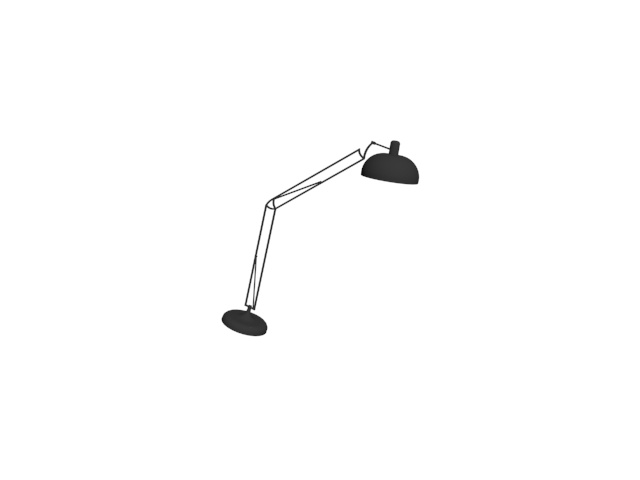desk_lamp: (217, 137, 424, 343)
